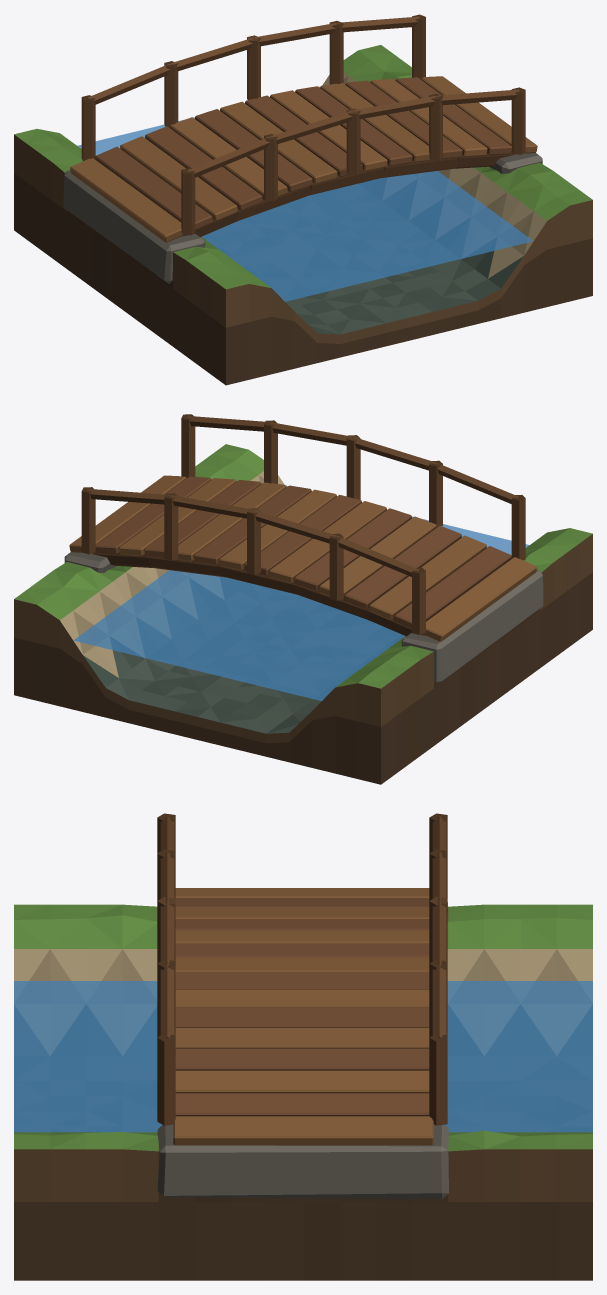
Rendered from bridge.glb.
The picture shows the model from 3 angles, top to bottom: view 1: azimuth 30°, elevation 25°; view 2: azimuth 150°, elevation 25°; view 3: azimuth 270°, elevation 25°; orthographic projection. The views are drawn at different scales.
Parts seen in each view (by area): view 1: Bridge; view 2: Bridge; view 3: Bridge.
Boxes of the visible parts, box(x1,y1,x2,y2) form: Bridge: box(14, 14, 592, 385); Bridge: box(14, 414, 592, 784); Bridge: box(14, 813, 592, 1280).
Bounding box in the file's own units: 2.07 × 0.9849 × 2.
